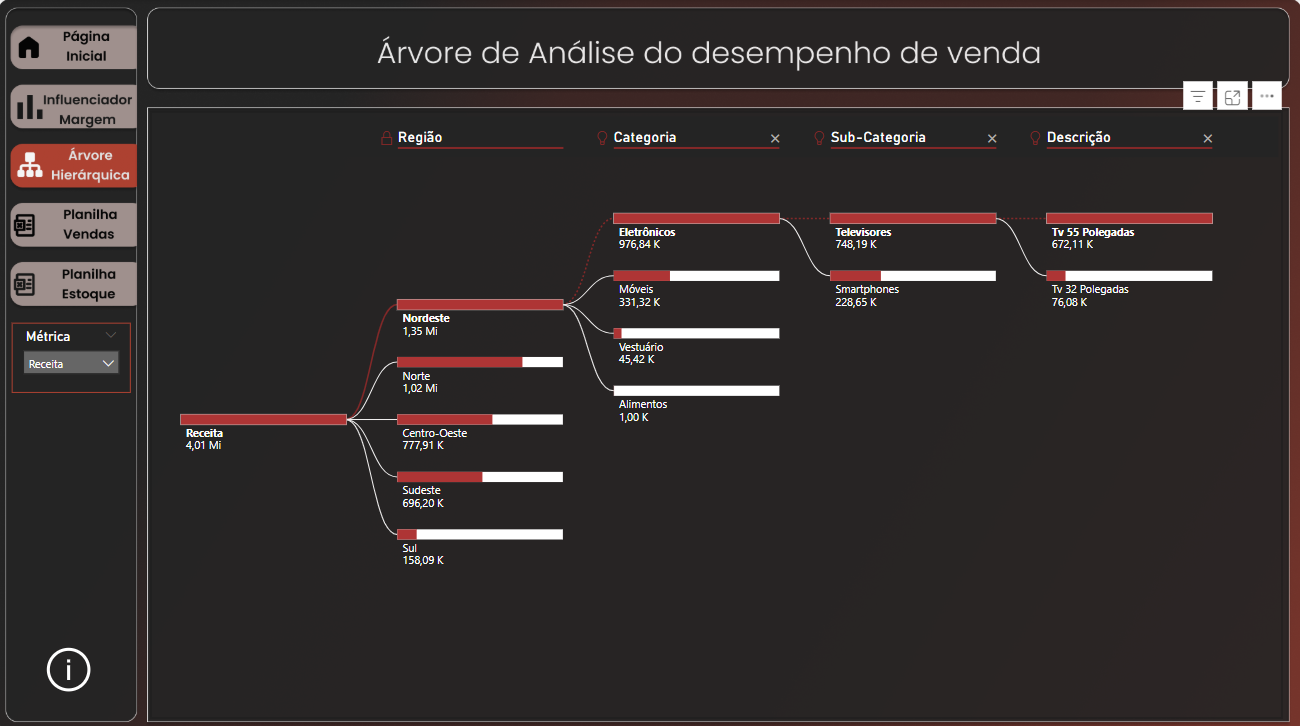

The dashboard page shown, as its layout file describes it:
{"tool":"powerbi","page":{"name":"Árvore de Ánalise","canvas":[1280,720],"ordinal":2},"visuals":[{"type":"actionButton","box":[41.7,630.7,60.1,55.2],"z":500},{"type":"pageNavigator","box":[10.6,198.1,128.1,47.5],"z":2000},{"type":"decompositionTreeVisual","fields":{"Analyze":["@Medidas.ReceitaTotal"],"ExplainBy":["dClientes.Região","dProdutos.CATEGORIA","dProdutos.SUB-CATEGORIA","dProdutos.DESCRIÇÃO"]},"box":[149.1,110.2,1112.3,596.5],"z":2500},{"type":"pageNavigator","box":[10.6,256.9,128.1,45],"z":3000},{"type":"pageNavigator","box":[11.1,26.7,127.8,43.3],"z":4000},{"type":"pageNavigator","box":[11.1,82.2,127.8,46.7],"z":5000},{"type":"slicer","fields":{"Values":["ParametroMetrica.ParametroMetrica"]},"box":[13.5,317.8,116.6,68.7],"z":5500}]}

Visuals, with their boxes on the page's 1280x720 design canvas (x1, y1, x2, y2). These are canvas units, not pixel positions in the 1300x726 screenshot, which may show the page scaled, cropped or inside an application window:
actionButton: <region>42, 631, 102, 686</region>
pageNavigator: <region>11, 198, 139, 246</region>
decompositionTreeVisual - @Medidas.ReceitaTotal x dClientes.Região: <region>149, 110, 1261, 707</region>
pageNavigator: <region>11, 257, 139, 302</region>
pageNavigator: <region>11, 27, 139, 70</region>
pageNavigator: <region>11, 82, 139, 129</region>
slicer - ParametroMetrica.ParametroMetrica: <region>14, 318, 130, 386</region>
